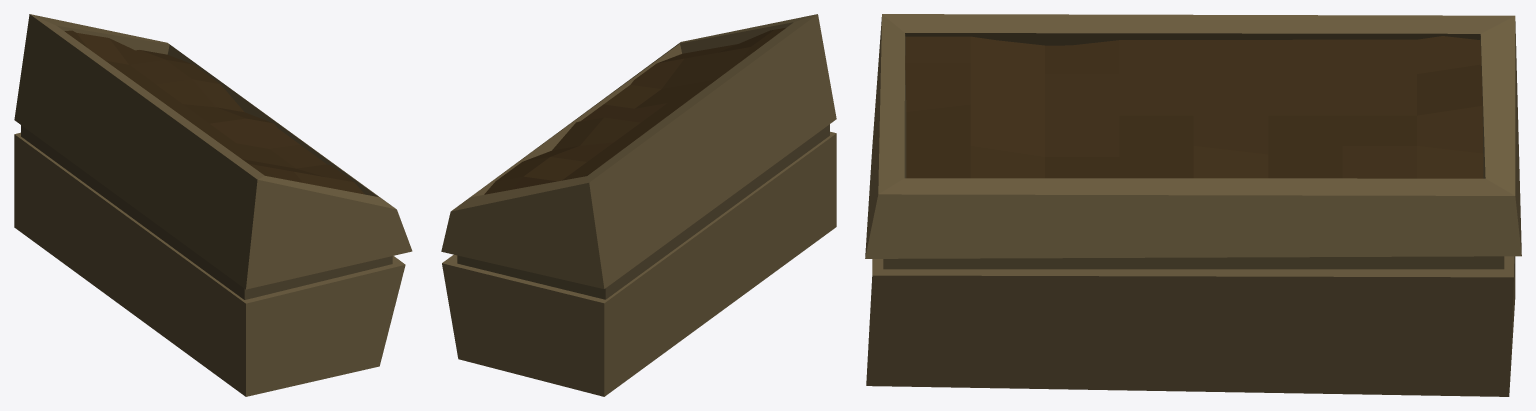
The model's file is FlowerBed.fbx.
The picture shows the model from 3 angles, left to right: view 1: azimuth 30°, elevation 25°; view 2: azimuth 150°, elevation 25°; view 3: azimuth 270°, elevation 25°; orthographic projection. The views are drawn at different scales.
Parts seen in each view (by area): view 1: Box, Soil, Rim; view 2: Box, Soil, Rim; view 3: Box, Soil, Rim.
Part boxes in pixels (box(x1,y1,x2,y2)): Box: box(14, 14, 412, 396); Soil: box(64, 30, 364, 194); Rim: box(21, 125, 392, 299); Box: box(441, 14, 836, 396); Soil: box(484, 27, 785, 194); Rim: box(457, 124, 829, 299); Box: box(865, 14, 1521, 396); Soil: box(905, 36, 1483, 178); Rim: box(883, 256, 1504, 269).
Bounding box in the file's own units: 44.7 × 54.93 × 112.
